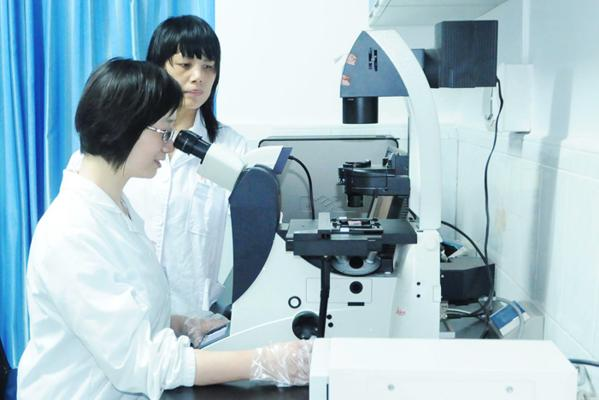person: (18, 58, 313, 400)
